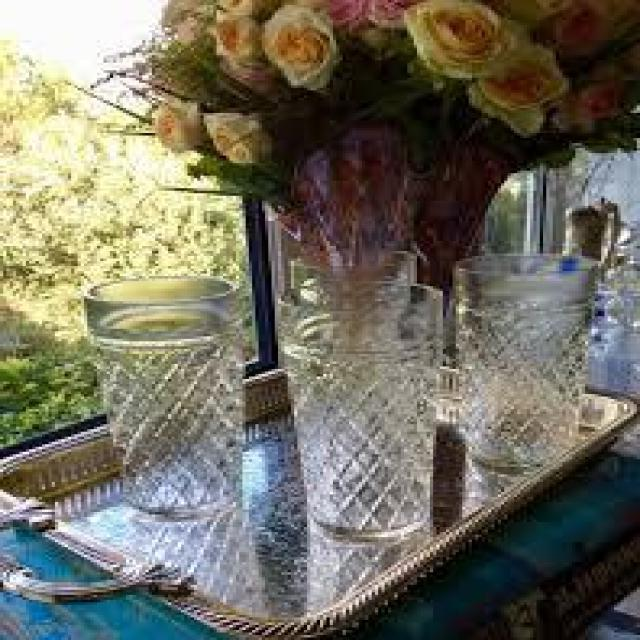glass: (276, 282, 444, 541)
